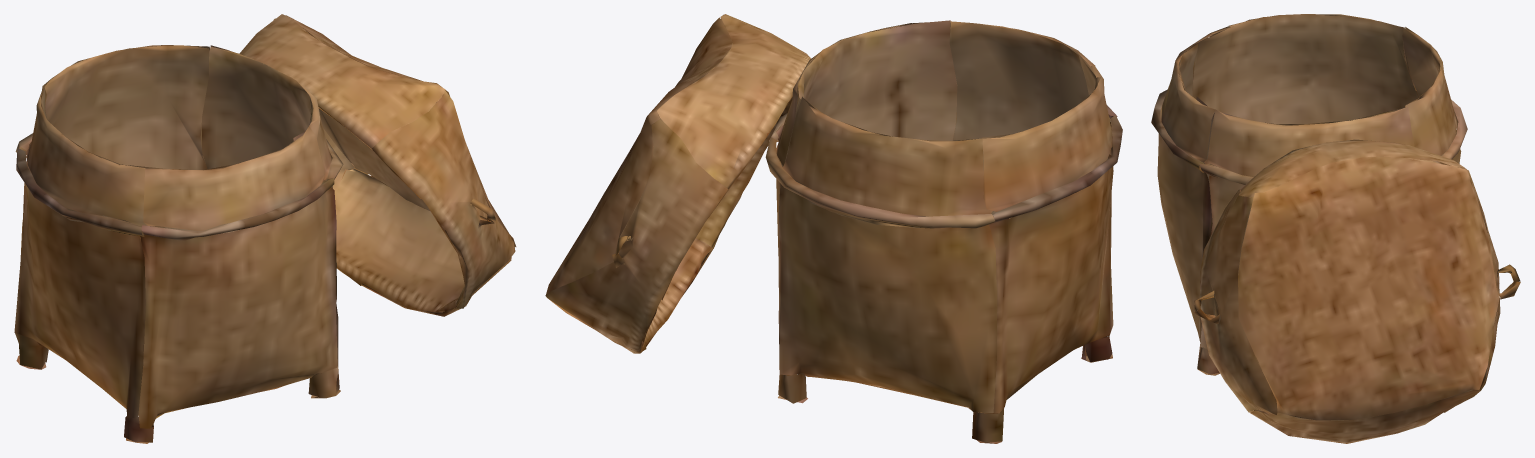
Rendered from basket-lightweight-acbdd6f249.glb.
3 views of the same model, side by side, from view 1: azimuth 30°, elevation 25°; view 2: azimuth 150°, elevation 25°; view 3: azimuth 270°, elevation 25° (orthographic). The views are drawn at different scales.
Parts seen in each view (by area): view 1: wicker_basket_02_base; view 2: wicker_basket_02_base; view 3: wicker_basket_02_base.
Boxes of the visible parts, <box> form: wicker_basket_02_base: <box>14,14,516,443</box>; wicker_basket_02_base: <box>545,14,1122,443</box>; wicker_basket_02_base: <box>1151,14,1520,443</box>.
Size of the model in its own units: 0.3463 by 0.2013 by 0.2547.
Materials: 1 (1 with a texture image).
